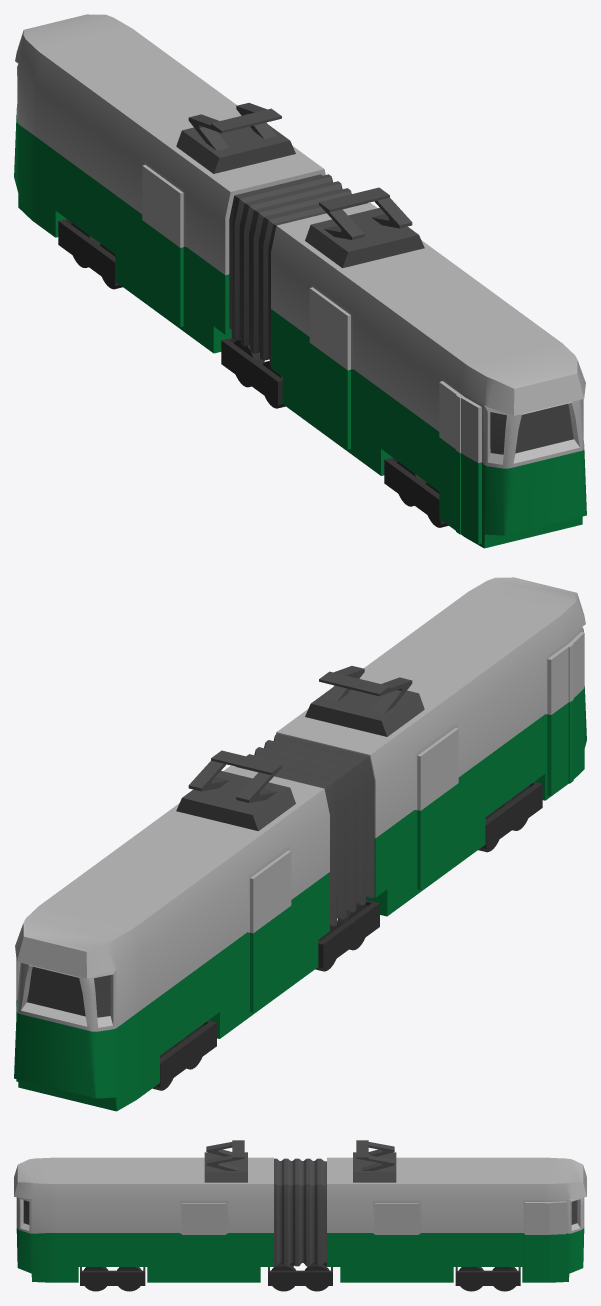
Rendered from greenline.fbx.
3 renders of one model, top to bottom at view 1: azimuth 30°, elevation 25°; view 2: azimuth 150°, elevation 25°; view 3: azimuth 270°, elevation 25°, orthographic. The views are drawn at different scales.
Visible parts, largest first — view 1: Cube.003, Cube, Cube.002, Cube.004, Cube.001, Cylinder.002, Cylinder.001, Cylinder.003; view 2: Cube, Cube.003, Cube.002, Cube.001, Cube.004, Cylinder.002, Cylinder.003, Cylinder.001; view 3: Cube, Cube.003, Cube.002, Cube.001, Cube.004, Cylinder.002, Cylinder.001, Cylinder.003.
Part boxes in pixels (<box>): Cube.003: <box>271,202,586,548</box>; Cube: <box>14,14,325,353</box>; Cube.002: <box>229,174,367,365</box>; Cube.004: <box>305,187,424,268</box>; Cube.001: <box>176,103,295,173</box>; Cylinder.002: <box>221,337,285,408</box>; Cylinder.001: <box>58,219,122,289</box>; Cylinder.003: <box>384,457,448,527</box>; Cube: <box>14,765,329,1111</box>; Cube.003: <box>276,577,586,916</box>; Cube.002: <box>236,733,374,926</box>; Cube.001: <box>176,750,295,831</box>; Cube.004: <box>305,666,424,736</box>; Cylinder.002: <box>315,900,379,971</box>; Cylinder.003: <box>478,782,542,852</box>; Cylinder.001: <box>152,1020,216,1090</box>; Cube: <box>327,1157,586,1282</box>; Cube.003: <box>14,1157,273,1282</box>; Cube.002: <box>274,1158,326,1266</box>; Cube.001: <box>353,1140,396,1182</box>; Cube.004: <box>204,1140,247,1182</box>; Cylinder.002: <box>268,1262,332,1291</box>; Cylinder.001: <box>455,1267,520,1291</box>; Cylinder.003: <box>80,1267,145,1291</box>.
Size of the model in its own units: 350 by 666 by 2648.
